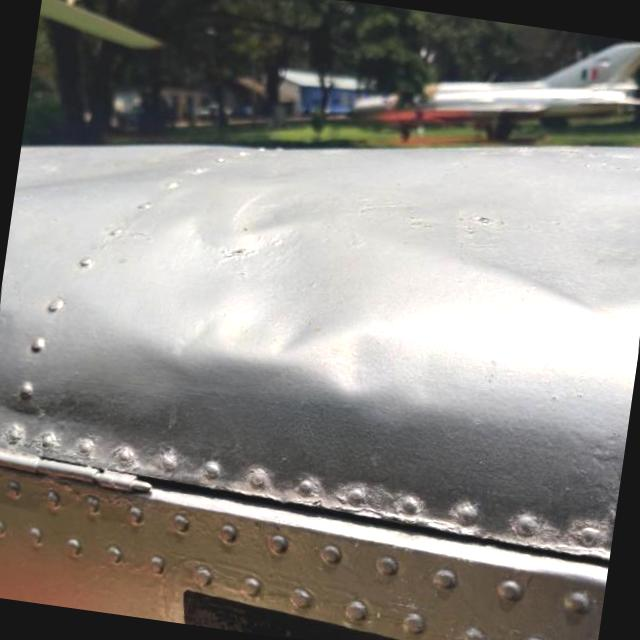dent: (59, 120, 428, 443), (421, 216, 640, 374), (12, 140, 138, 225)
